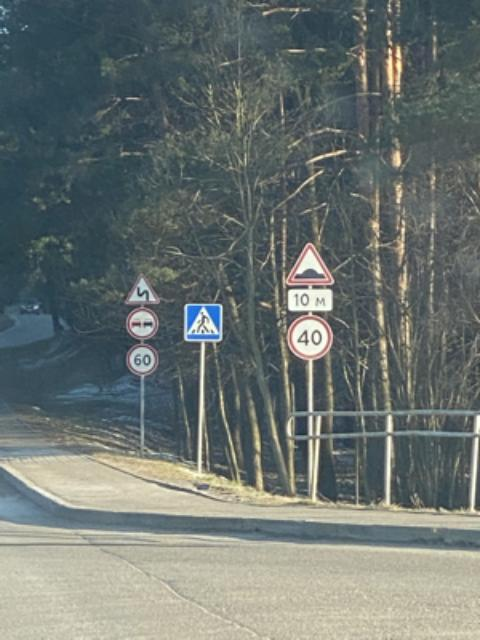crosswalk-sign: (183, 303, 223, 344)
